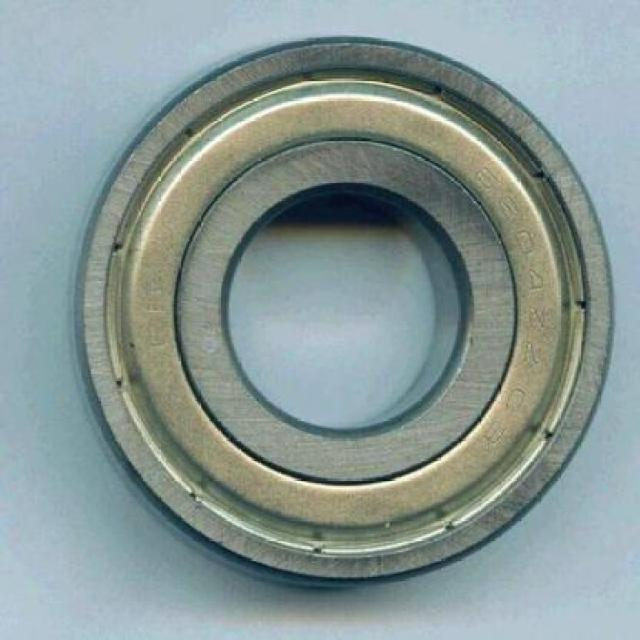Bearing: (73, 32, 620, 590)
